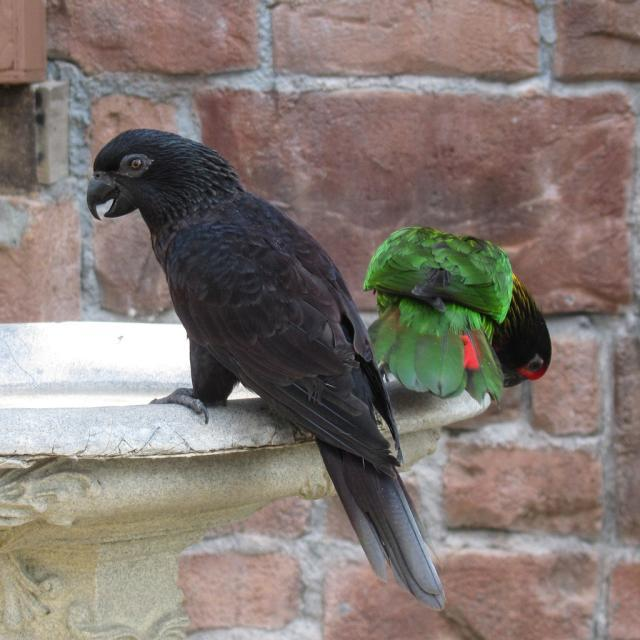Nuri Hitam: (68, 94, 449, 622)
